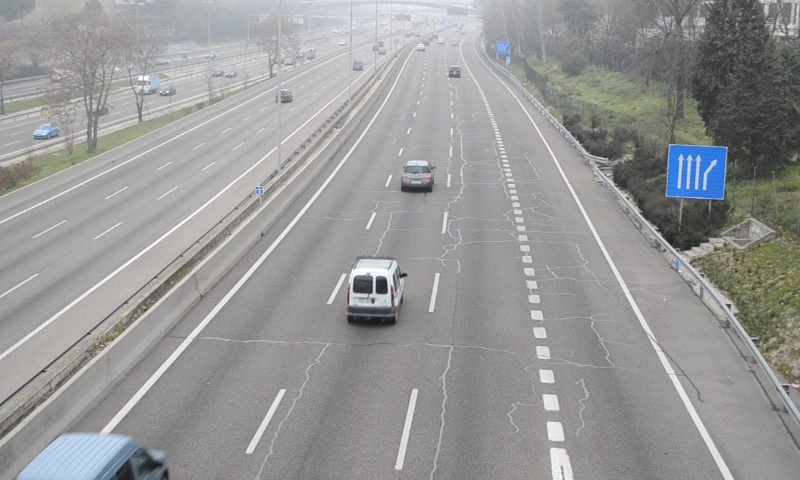car: (401, 160, 434, 190)
van: (346, 258, 405, 320)
